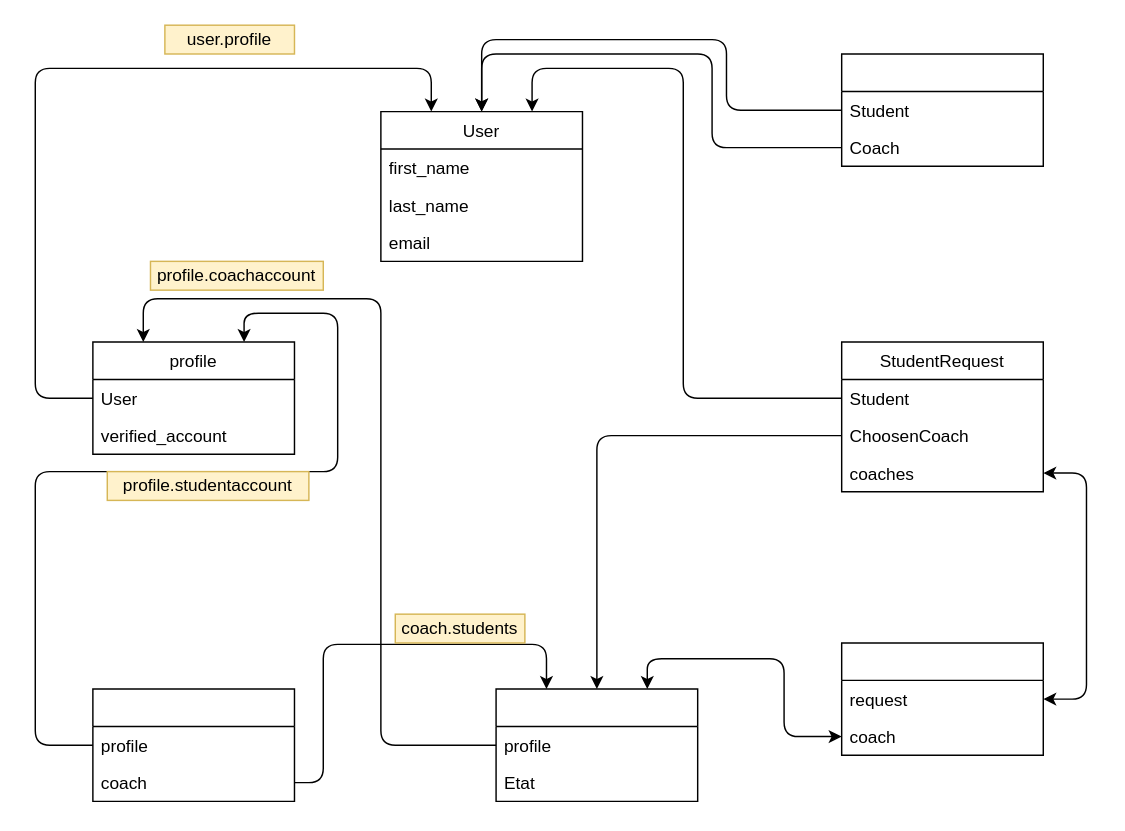
Image size: 1125x831. Some labels were removed from this diagram. Each missing label, with the box of its shape:
CoachAccount: (495, 688, 698, 801)
CoachRequestThrough: (840, 642, 1043, 755)
FollowElement: (840, 53, 1043, 166)
StudentAccount: (91, 688, 294, 801)
